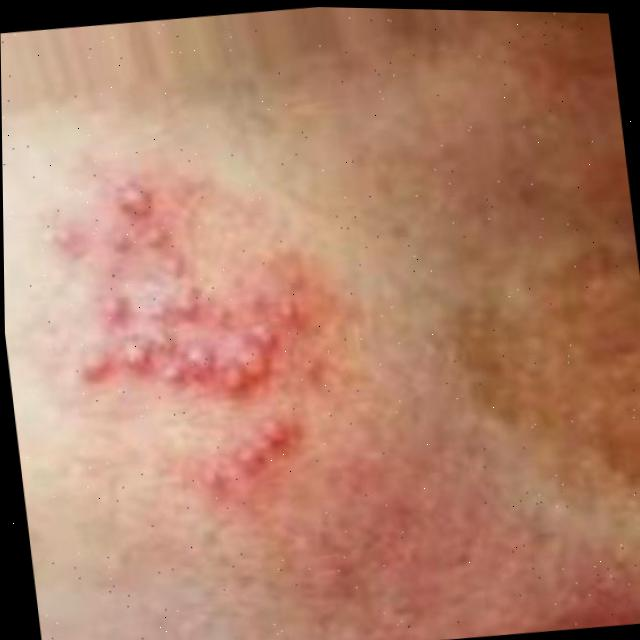Shingles: (38, 165, 324, 510)
